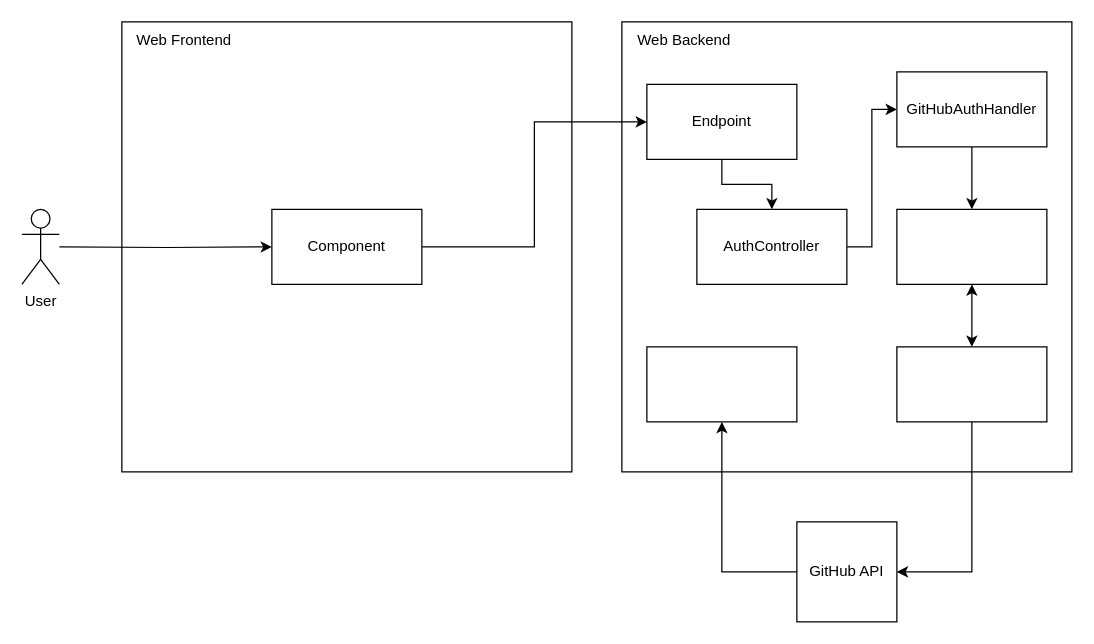
Image size: 1094x644. Some labels were removed from this diagram. Here are the shapes that lost their labels. From the top down, the box of each, then its label:
(896, 208, 1047, 284): GitHubAuthProvider
(646, 346, 797, 422): Callback Endpoint
(896, 346, 1047, 422): Octokit.NET
